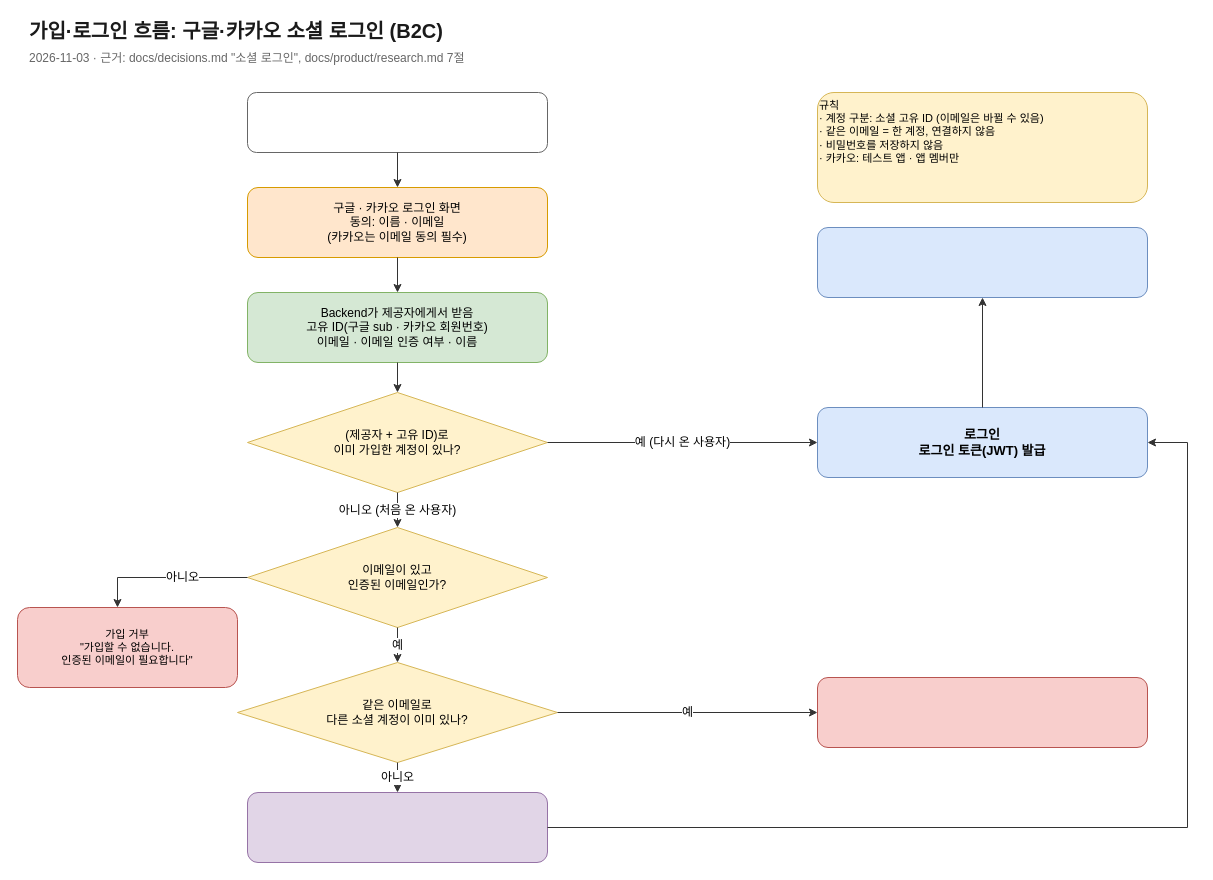
This 1213x880 diagram has some shape labels left out. Here are the shapes that lost their labels. From the top down, the box of each, then its label:
(246, 92, 548, 152): 첫 화면 / [구글로 시작] [카카오로 시작]
(816, 226, 1148, 298): 대시보드로 이동 (튜토리얼 완성 뒤: 첫 가입이면 튜토리얼 한 번 → 대시보드)
(816, 676, 1148, 748): 가입 거부 "이미 [카카오]로 가입된 이메일입니다. [카카오]로 로그인해 주세요"
(246, 792, 548, 862): 새 계정 만들기 역할 LEARNER · 상태 활성 고유 ID · 이메일 · 이름 저장
